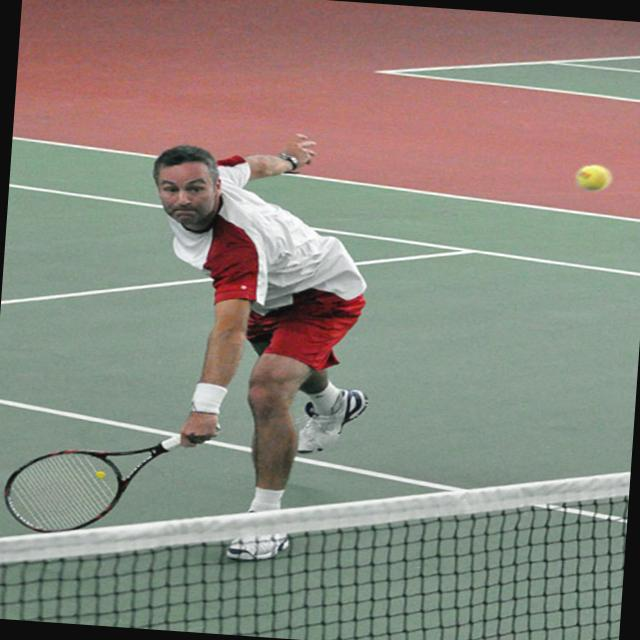Tennis Ball: (576, 162, 612, 190)
